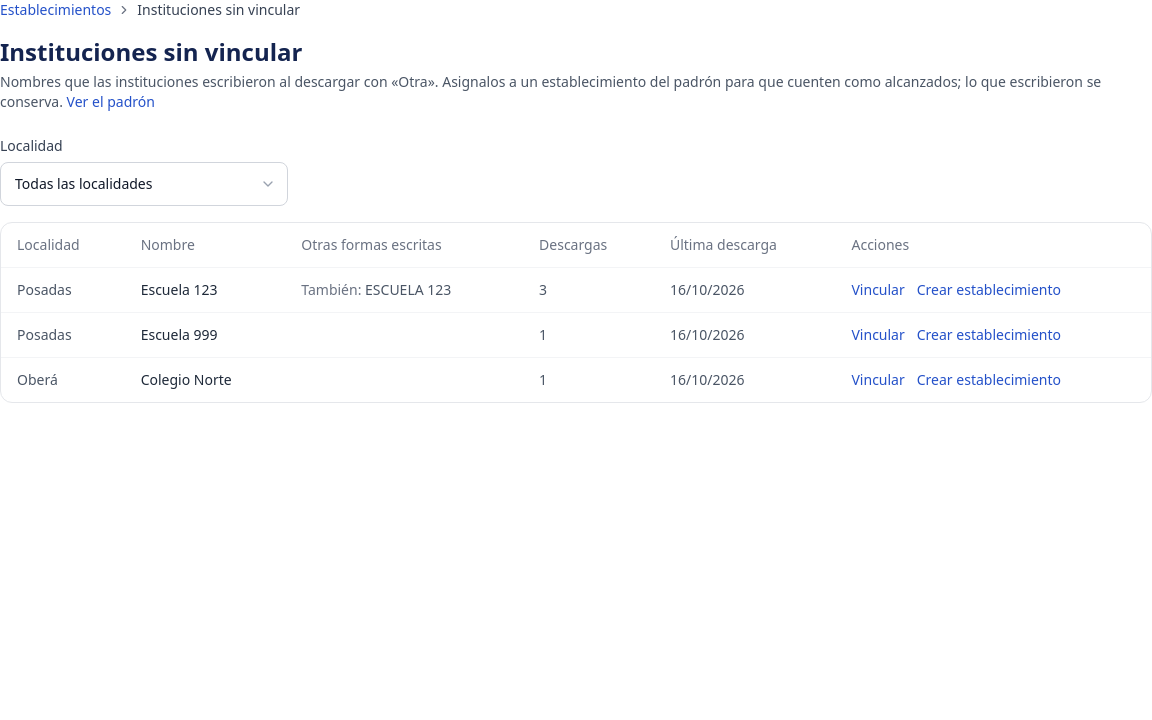
Test: SinVincularPage: vincular (criterios 4, 5 y 9) › el foco no salta mientras se escribe en el buscador y este filtra los radios
The width and height of the screenshot is (1152, 720).
Click the button "Vincular" in the row of "También:" at (878, 290), box 852,280 -> 905,300
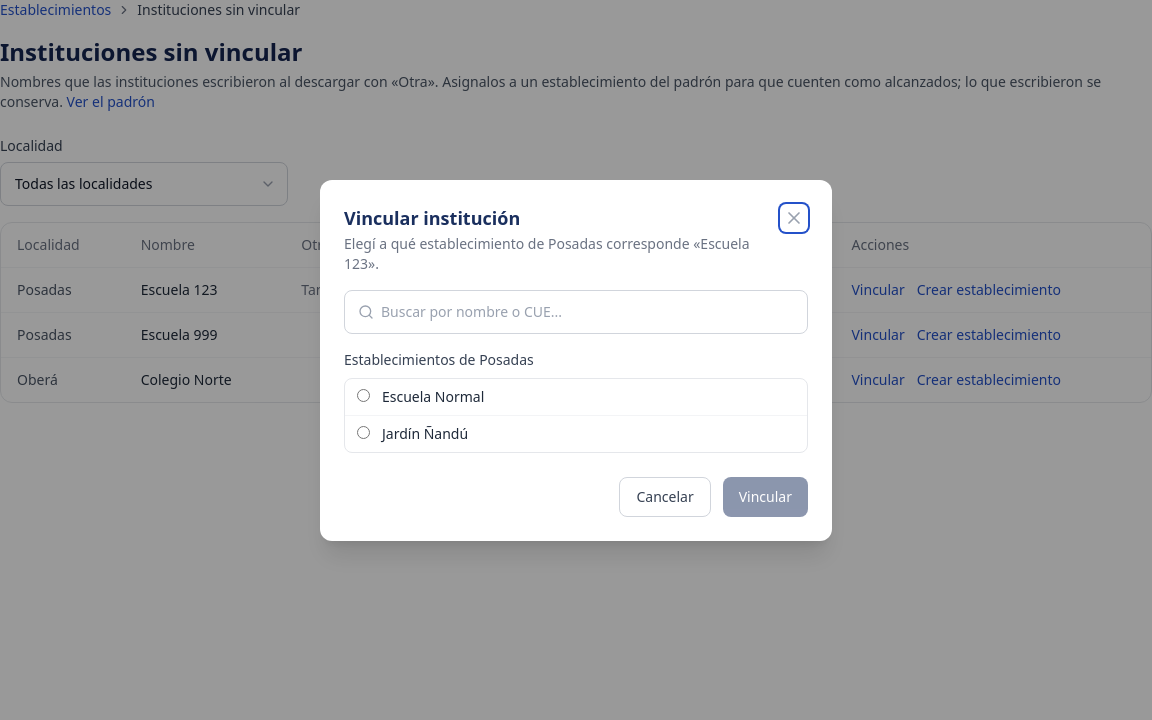
Now the radio button labelled "Escuela Normal" is shown, box 357,388 -> 370,402
Type "jard" into the field named "Buscar establecimiento" at (576, 312), box 344,290 -> 808,334
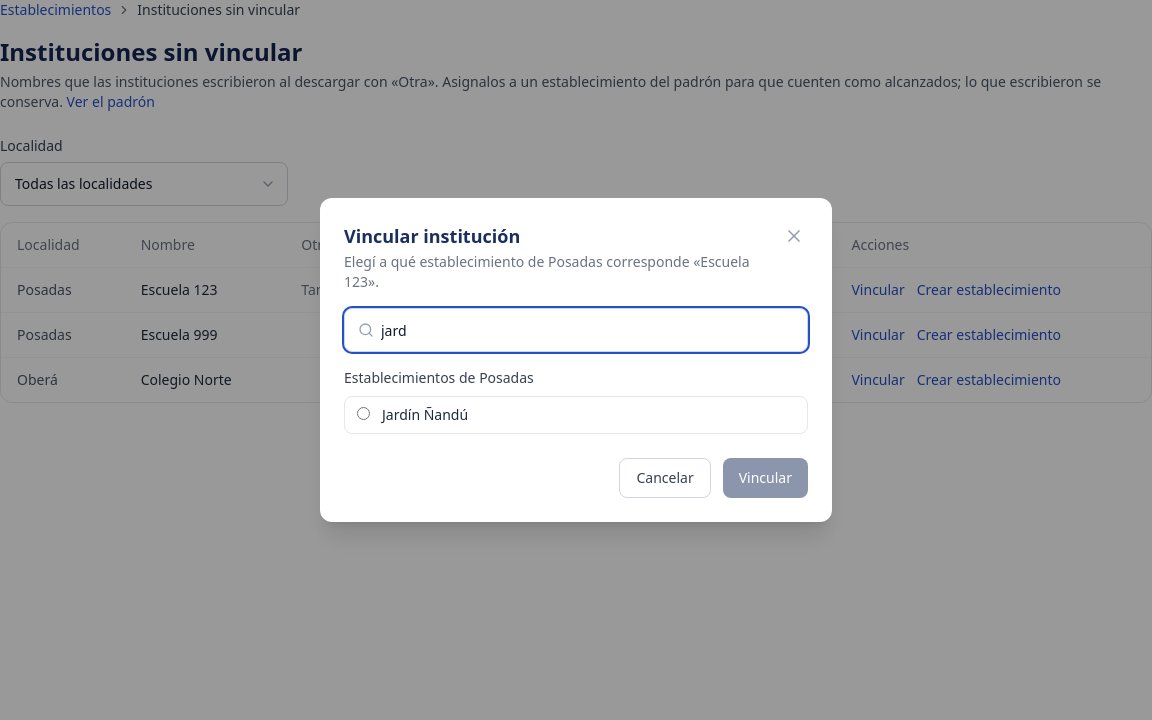
Now the radio button labelled "Jardín Ñandú" is shown, box 357,407 -> 370,420
Now the text "Escuela Normal" is gone
